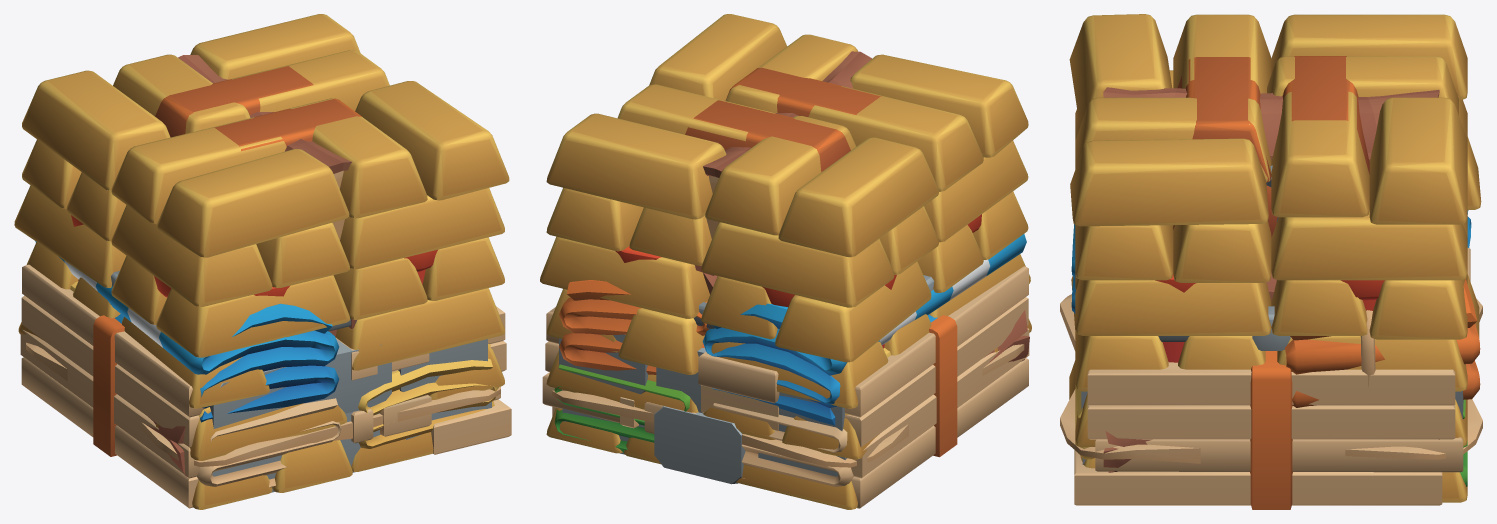
File: kk-resources.glb
3 views of the same model, side by side, from view 1: azimuth 30°, elevation 25°; view 2: azimuth 150°, elevation 25°; view 3: azimuth 270°, elevation 25° (orthographic). The views are drawn at different scales.
Parts seen in each view (by area): view 1: Gold_Bars_Stack_Large, Wood_Planks_Stack_Medium, Textiles_Stack_Large_Colored, Copper_Bars_Stack_Medium, Stone_Bricks_Stack_Medium, Pallet_Wood_Covered_A, Wood_Log_Stack, Fuel_A_Barrels; view 2: Gold_Bars_Stack_Large, Wood_Planks_Stack_Medium, Textiles_Stack_Large_Colored, Stone_Bricks_Stack_Medium, Copper_Bars_Stack_Medium, Pallet_Wood_Covered_A, Wood_Log_Stack, Fuel_A_Barrels; view 3: Gold_Bars_Stack_Large, Wood_Planks_Stack_Medium, Copper_Bars_Stack_Medium, Textiles_Stack_Large_Colored, Pallet_Wood_Covered_A, Wood_Log_Stack, Fuel_A_Barrels.
Boxes of the visible parts, <box> form: Gold_Bars_Stack_Large: <box>14,14,509,509</box>; Wood_Planks_Stack_Medium: <box>20,264,511,508</box>; Textiles_Stack_Large_Colored: <box>35,241,498,488</box>; Copper_Bars_Stack_Medium: <box>155,66,361,151</box>; Stone_Bricks_Stack_Medium: <box>70,281,491,492</box>; Pallet_Wood_Covered_A: <box>26,342,500,466</box>; Wood_Log_Stack: <box>146,55,356,476</box>; Fuel_A_Barrels: <box>71,215,437,331</box>; Gold_Bars_Stack_Large: <box>540,14,1031,509</box>; Wood_Planks_Stack_Medium: <box>542,266,1029,508</box>; Textiles_Stack_Large_Colored: <box>554,234,1026,486</box>; Stone_Bricks_Stack_Medium: <box>559,334,890,484</box>; Copper_Bars_Stack_Medium: <box>685,67,881,171</box>; Pallet_Wood_Covered_A: <box>552,344,1024,467</box>; Wood_Log_Stack: <box>695,51,1029,364</box>; Fuel_A_Barrels: <box>615,214,981,348</box>; Gold_Bars_Stack_Large: <box>1069,14,1481,502</box>; Wood_Planks_Stack_Medium: <box>1074,248,1470,509</box>; Copper_Bars_Stack_Medium: <box>1173,56,1369,237</box>; Textiles_Stack_Large_Colored: <box>1071,210,1480,486</box>; Pallet_Wood_Covered_A: <box>1060,294,1482,463</box>; Wood_Log_Stack: <box>1103,87,1439,472</box>; Fuel_A_Barrels: <box>1155,274,1384,362</box>.
Size of the model in its own units: 1.72 by 1.7 by 1.72.
1 material, 1 textured.
